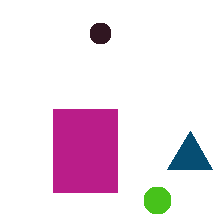circle: (144, 187, 170, 213), (90, 23, 110, 43)
rectangle: (53, 109, 117, 192)
triangle: (167, 131, 212, 169)
